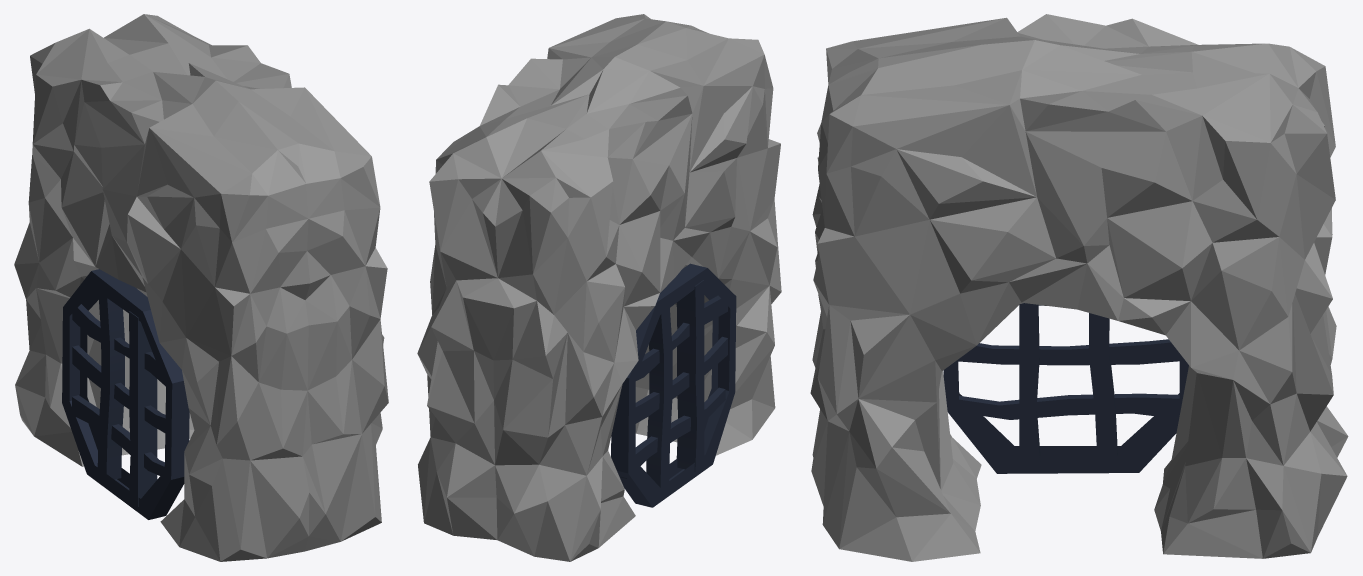
Rendered from wall_small_hole.FBX.
3 views of the same model, side by side, from view 1: azimuth 30°, elevation 25°; view 2: azimuth 150°, elevation 25°; view 3: azimuth 270°, elevation 25° (orthographic). The views are drawn at different scales.
Visible parts, largest first — view 1: wall_small_hole, Box012; view 2: wall_small_hole, Box012; view 3: wall_small_hole, Box012.
Boxes of the visible parts, box(x1,y1,x2,y2) form: wall_small_hole: box(14, 14, 388, 561); Box012: box(62, 269, 189, 519); wall_small_hole: box(417, 14, 781, 561); Box012: box(611, 263, 736, 507); wall_small_hole: box(810, 14, 1348, 561); Box012: box(943, 303, 1188, 473).
Size of the model in its own units: 110 by 216 by 222.
